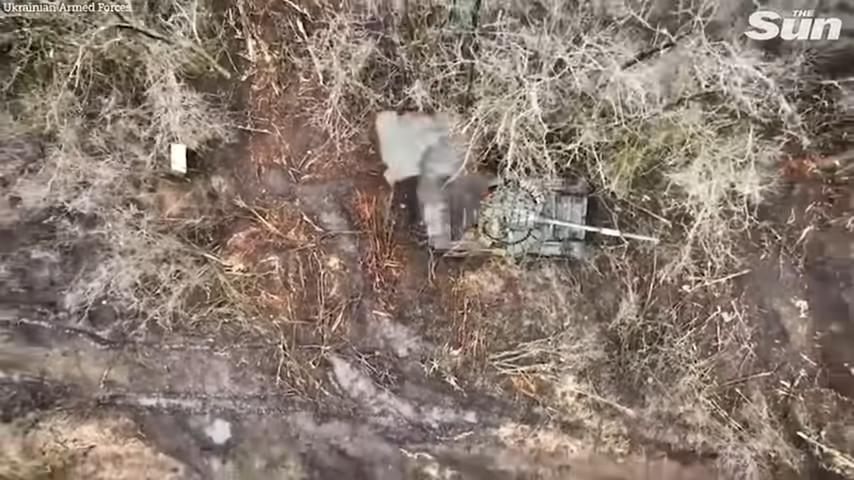tank: (417, 170, 661, 263)
